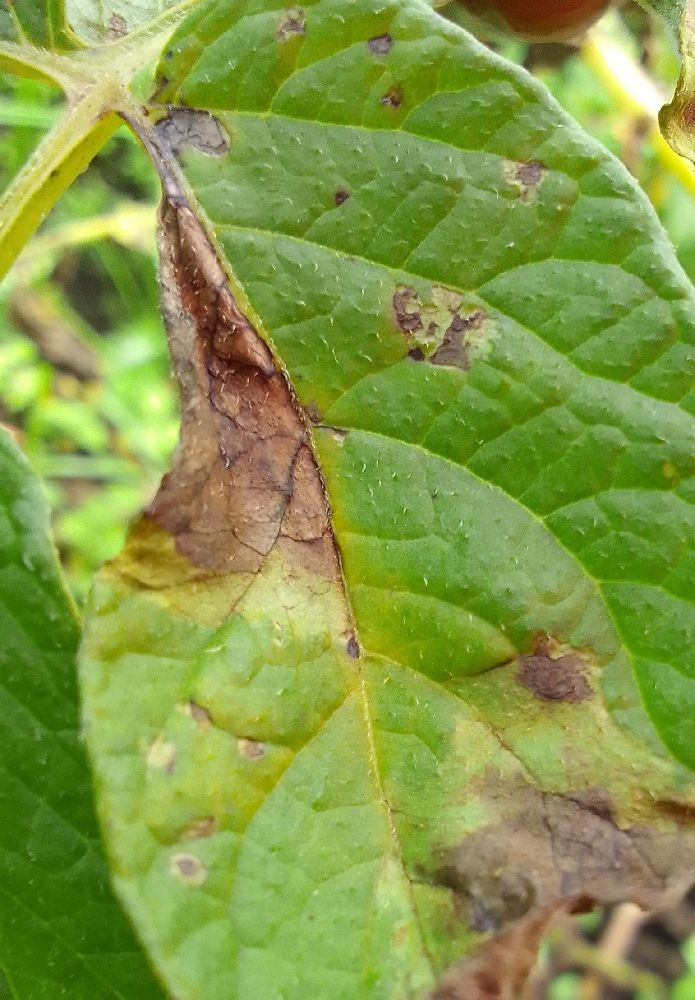late_blight: (18, 40, 387, 722), (382, 712, 695, 1000), (410, 0, 689, 101), (421, 606, 622, 738)
